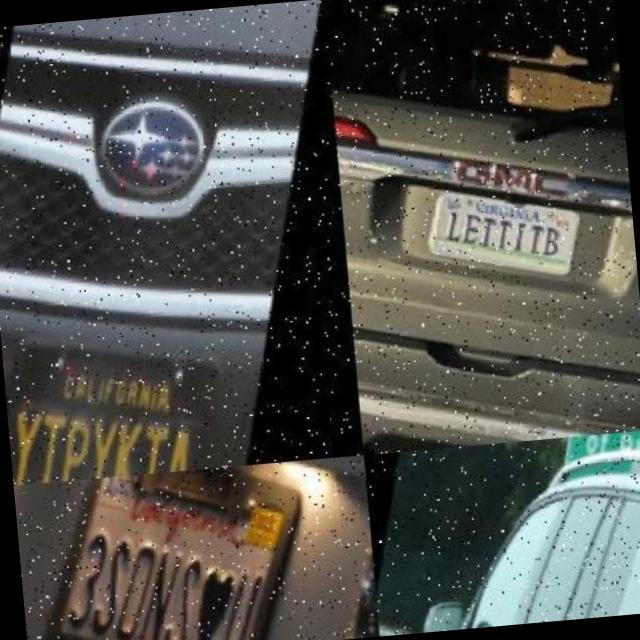LicensePlate: (13, 461, 301, 640), (1, 316, 220, 486), (423, 192, 578, 276)
